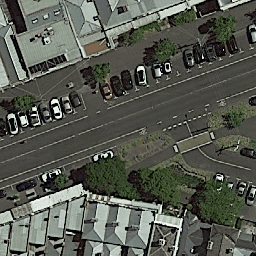car: (91, 148, 114, 164), (40, 167, 62, 183), (99, 77, 113, 101), (38, 102, 53, 124), (110, 75, 125, 97), (119, 69, 134, 91), (50, 97, 63, 121), (28, 104, 41, 128), (6, 111, 19, 135), (15, 178, 37, 192), (226, 33, 239, 55), (136, 64, 148, 87), (183, 48, 196, 68), (194, 44, 207, 63), (245, 185, 256, 207), (17, 109, 29, 129), (69, 91, 83, 108), (61, 95, 73, 114), (236, 179, 248, 198), (205, 43, 216, 63), (246, 22, 256, 44), (214, 172, 224, 194), (151, 61, 163, 79), (240, 146, 256, 159), (215, 40, 227, 57), (163, 59, 173, 75), (225, 179, 235, 191)
